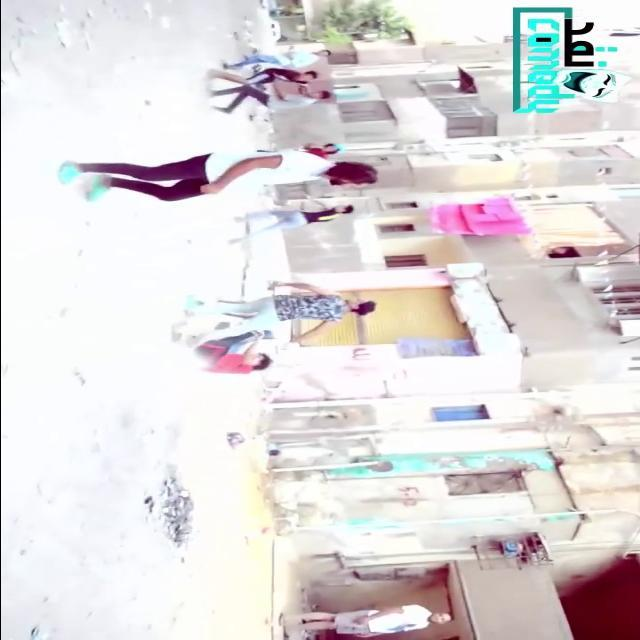non_violence: (57, 148, 381, 204), (169, 274, 379, 348), (271, 600, 461, 640), (226, 190, 356, 247)
violence: (200, 68, 334, 116)
